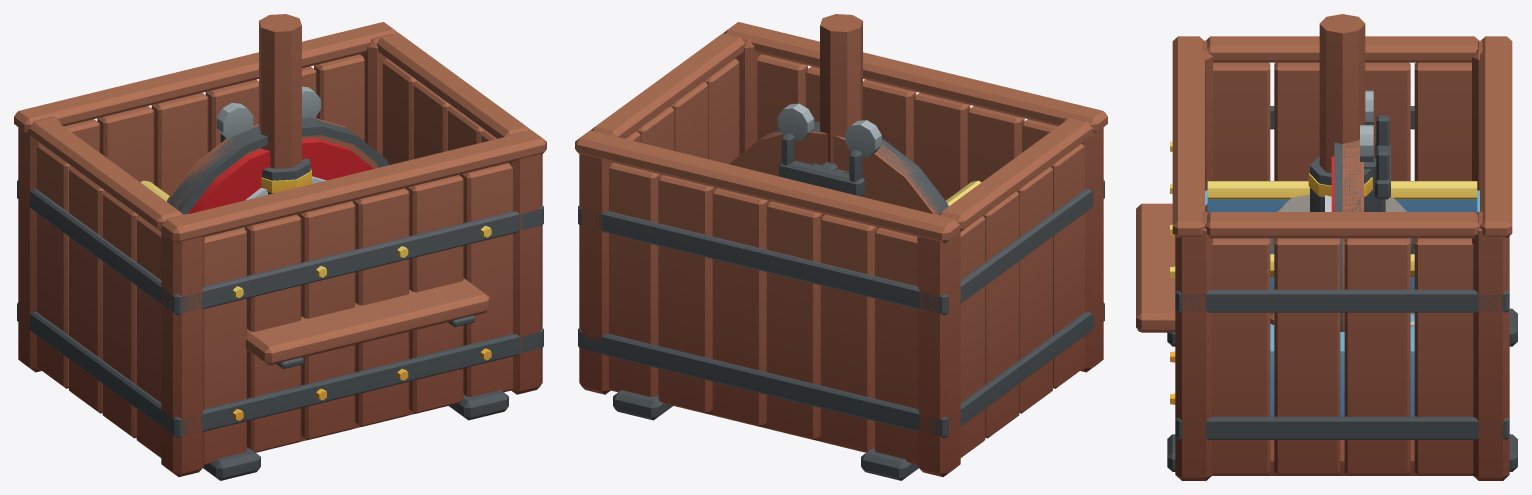
The model's file is dunk_tank_parts.glb.
3 views of the same model, side by side, from view 1: azimuth 30°, elevation 25°; view 2: azimuth 150°, elevation 25°; view 3: azimuth 270°, elevation 25° (orthographic). The views are drawn at different scales.
Parts seen in each view (by area): view 1: Tank, Target, Seat, Pole, PoleFoot; view 2: Tank, Target, Pole; view 3: Tank, Pole, Chute, Target, Seat, PoleFoot, Water.
Boxes of the visible parts, x1,y1,x2,y2 form: Tank: (14, 22, 546, 480); Target: (166, 86, 389, 228); Seat: (246, 278, 490, 368); Pole: (259, 14, 301, 168); PoleFoot: (261, 158, 311, 215); Tank: (575, 22, 1107, 480); Target: (715, 103, 948, 228); Pole: (820, 14, 862, 163); Tank: (1167, 36, 1517, 480); Pole: (1319, 14, 1365, 173); Chute: (1207, 181, 1477, 289); Target: (1325, 90, 1390, 331); Seat: (1136, 203, 1274, 332); PoleFoot: (1270, 156, 1414, 253); Water: (1205, 190, 1479, 416).
Size of the model in its own units: 1.66 by 1.56 by 1.41.
1 material, 1 textured.
